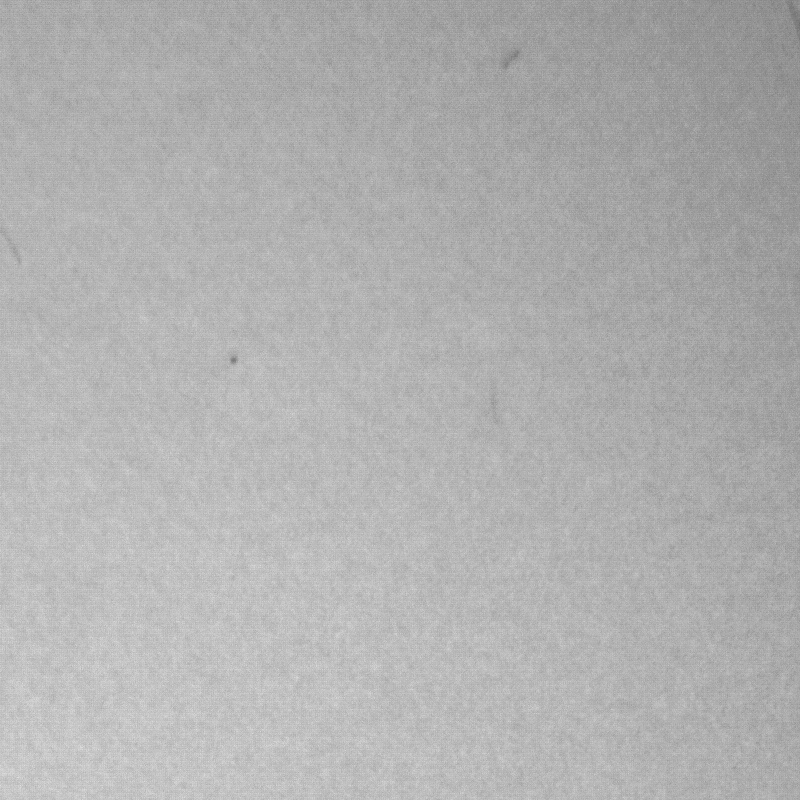defect: (1, 222, 21, 262), (497, 47, 525, 75), (230, 351, 241, 368)
